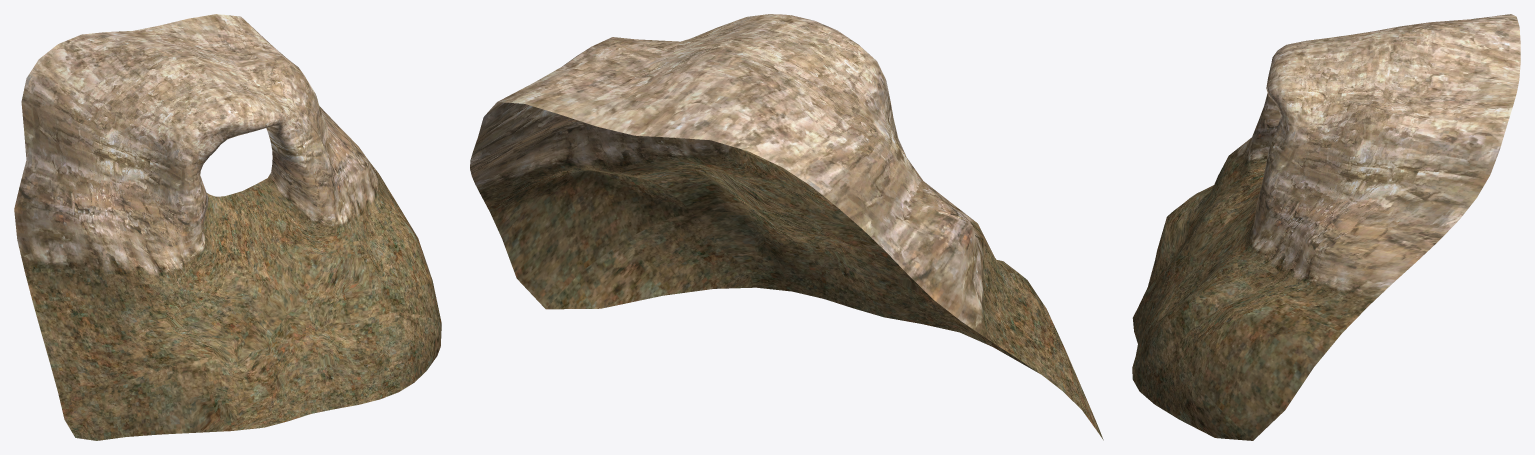
File: thm_all_cave_s02_r0_mesh_l0.fbx
3 views of the same model, side by side, from view 1: azimuth 30°, elevation 25°; view 2: azimuth 150°, elevation 25°; view 3: azimuth 270°, elevation 25° (orthographic). The views are drawn at different scales.
Parts seen in each view (by area): view 1: mesh_node; view 2: mesh_node; view 3: mesh_node.
Part boxes in pixels (x1,y1,x2,y2): mesh_node: (14,14,441,440); mesh_node: (470,14,1103,440); mesh_node: (1132,14,1520,440).
Bounding box in the file's own units: 48.97 × 34.28 × 39.36.
